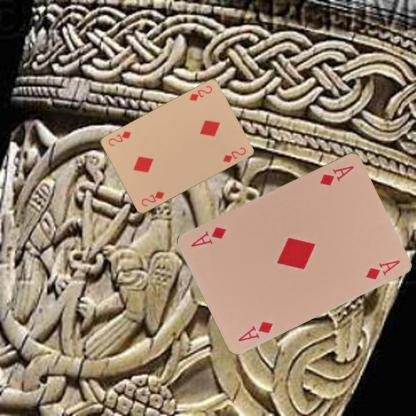2d: (139, 189, 165, 208), (187, 83, 213, 102)
Ad: (235, 317, 276, 343), (318, 162, 355, 187)
